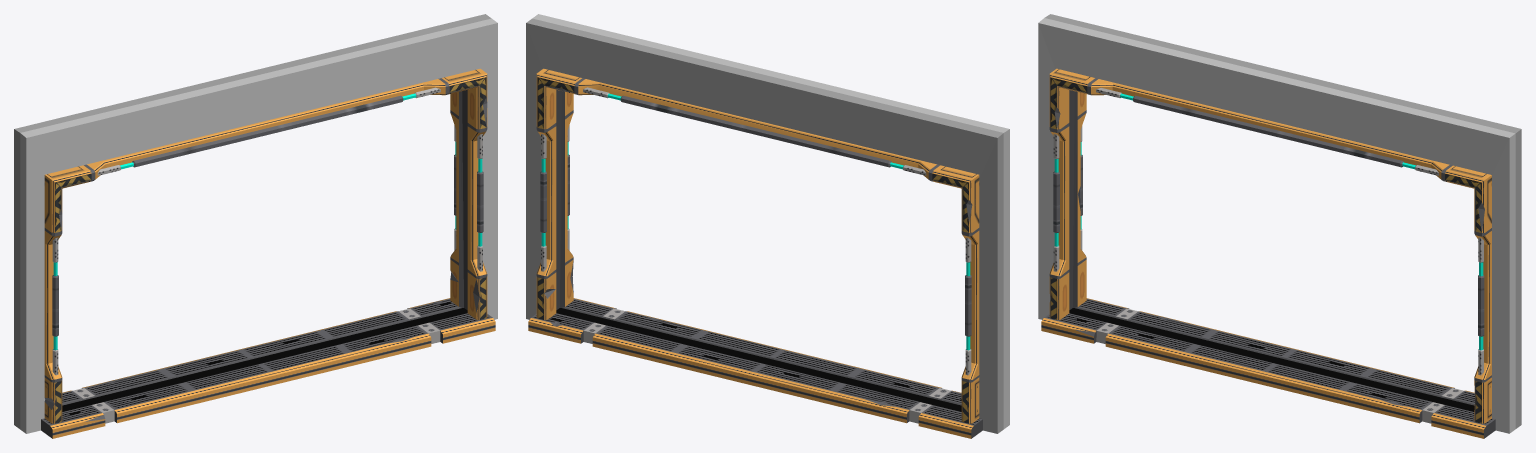
The model's file is SM_Bld_Wall_Door_Double_Large_02.fbx.
3 renders of one model, left to right at view 1: azimuth 30°, elevation 25°; view 2: azimuth 150°, elevation 25°; view 3: azimuth 330°, elevation 25°, orthographic.
Parts seen in each view (by area): view 1: SM_Bld_Wall_Door_Double_Large_02; view 2: SM_Bld_Wall_Door_Double_Large_02; view 3: SM_Bld_Wall_Door_Double_Large_02.
Part boxes in pixels (left/top/right/bottom): SM_Bld_Wall_Door_Double_Large_02: left=14, top=14, right=497, bottom=438; SM_Bld_Wall_Door_Double_Large_02: left=526, top=14, right=1009, bottom=438; SM_Bld_Wall_Door_Double_Large_02: left=1038, top=14, right=1521, bottom=438.
Bounding box in the file's own units: 500 × 301 × 65.18.
